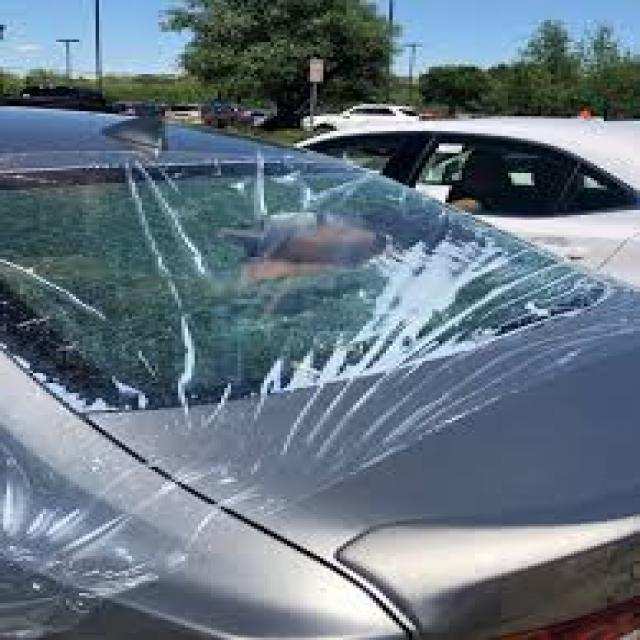damaged-window: (0, 159, 605, 415)
